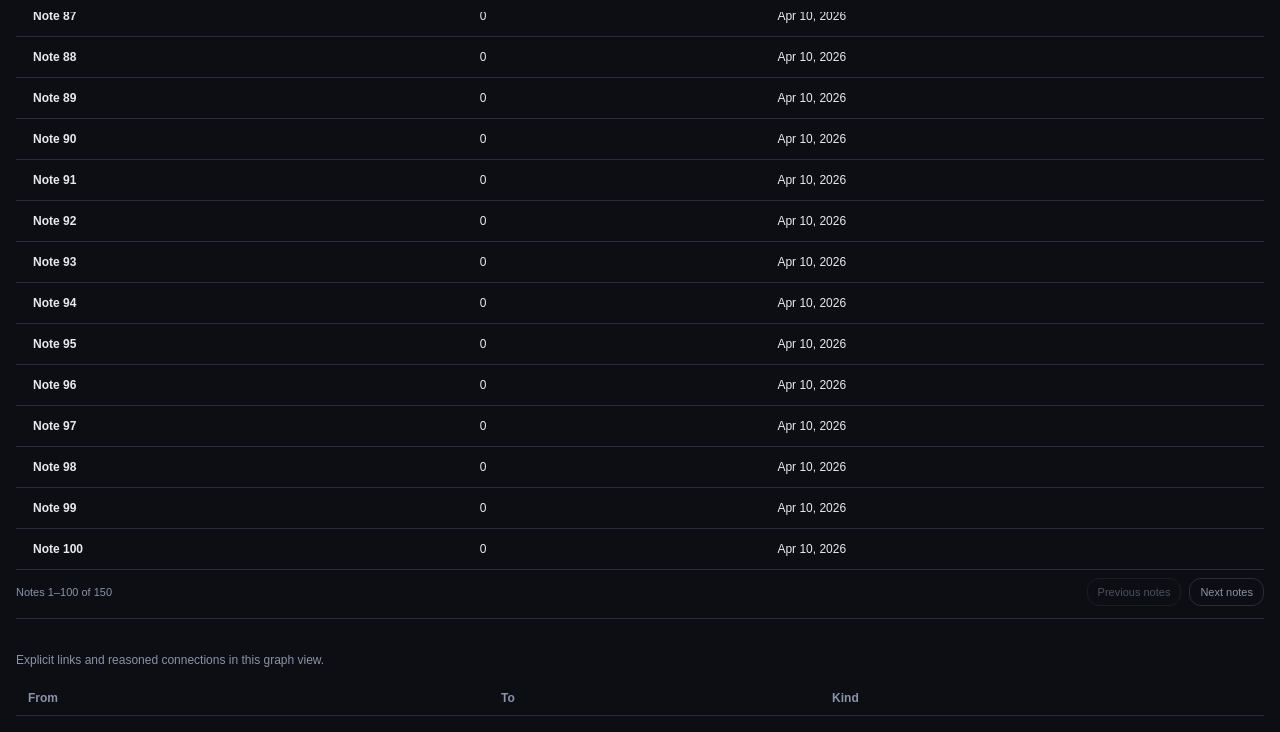
it: BrainTable › paginates large graph tables without removing keyboard access
The image size is (1280, 732).
(page scrolled)
Click the button "Next notes" at {"x": 1227, "y": 592}, box [1189, 578, 1264, 606]
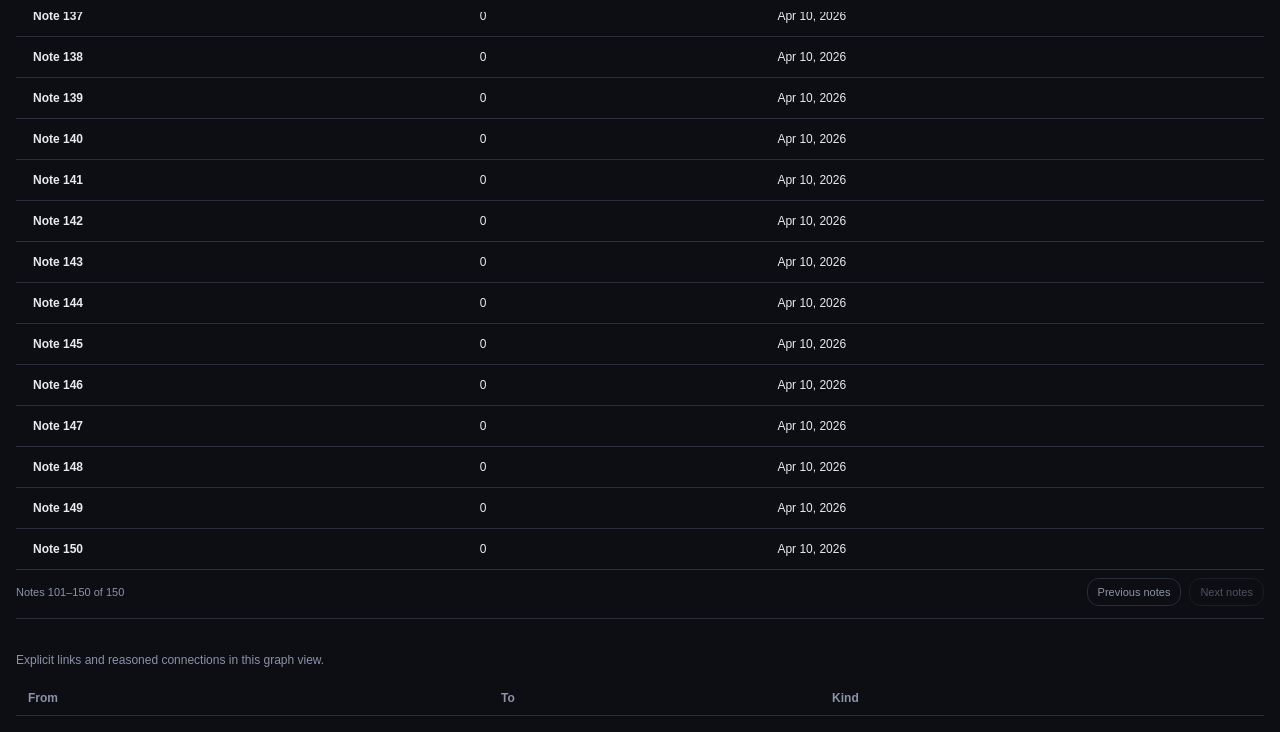
Expected: the text "Notes 101–150 of 150" is shown, [16, 584, 124, 600]
